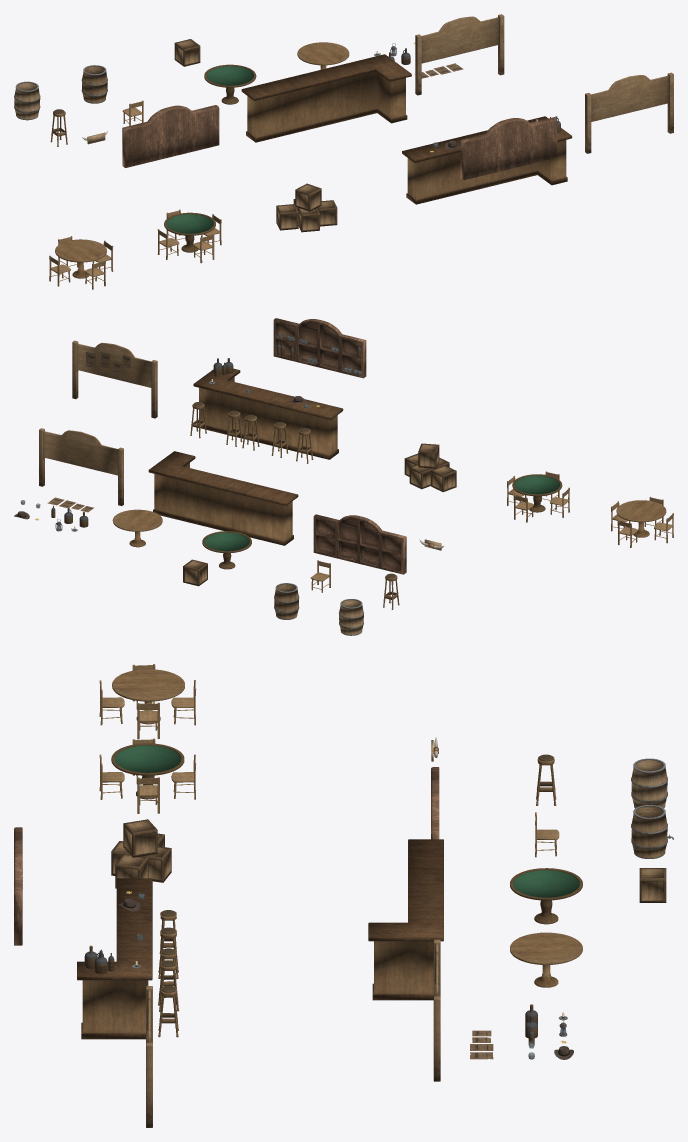
Rendered from wild_west_asset_pack.glb.
3 views of the same model, one above another, from view 1: azimuth 30°, elevation 25°; view 2: azimuth 150°, elevation 25°; view 3: azimuth 270°, elevation 25° (orthographic). The views are drawn at different scales.
Parts seen in each view (by area): view 1: Bar_low, Bar_low001, Shelf_low_ChairShelfHorns_0, Shelf_low001_ChairShelfHorns_0, WantedBoard_low, WantedBoard_low001, PokerTable_low, PokerTable_low001, StandardTable_low001, StandardTable_low, Barrel_low_CrateBarrelsKeg_0, Keg_low_CrateBarrelsKeg_0 (+5 smaller); view 2: Bar_low, Bar_low001, Shelf_low_ChairShelfHorns_0, Shelf_low001_ChairShelfHorns_0, WantedBoard_low, WantedBoard_low001, PokerTable_low, PokerTable_low001, StandardTable_low, StandardTable_low001, Barrel_low_CrateBarrelsKeg_0, Keg_low_CrateBarrelsKeg_0 (+3 smaller); view 3: Bar_low, Bar_low001, PokerTable_low, StandardTable_low, PokerTable_low001, StandardTable_low001, Keg_low_CrateBarrelsKeg_0, Barrel_low_CrateBarrelsKeg_0, Crate_low004_CrateBarrelsKeg_0, WantedBoard_low, Shelf_low001_ChairShelfHorns_0, WantedBoard_low001 (+3 smaller).
Part boxes in pixels (box(x1,y1,x2,y2)): Bar_low: box(241, 54, 411, 142); Bar_low001: box(402, 116, 572, 204); Shelf_low_ChairShelfHorns_0: box(122, 105, 219, 167); Shelf_low001_ChairShelfHorns_0: box(460, 117, 557, 180); WantedBoard_low: box(415, 14, 504, 95); WantedBoard_low001: box(585, 72, 673, 153); PokerTable_low: box(204, 64, 256, 104); PokerTable_low001: box(164, 212, 215, 252); StandardTable_low001: box(55, 239, 106, 278); StandardTable_low: box(297, 42, 349, 69); Barrel_low_CrateBarrelsKeg_0: box(14, 81, 40, 120); Keg_low_CrateBarrelsKeg_0: box(81, 65, 107, 103); Bar_low: box(148, 451, 298, 545); Bar_low001: box(193, 366, 343, 459); Shelf_low_ChairShelfHorns_0: box(313, 514, 406, 574); Shelf_low001_ChairShelfHorns_0: box(273, 318, 366, 378); WantedBoard_low: box(39, 428, 123, 505); WantedBoard_low001: box(72, 340, 157, 418); PokerTable_low: box(202, 531, 251, 569); PokerTable_low001: box(512, 474, 562, 512); StandardTable_low: box(112, 509, 162, 547); StandardTable_low001: box(616, 500, 666, 537); Barrel_low_CrateBarrelsKeg_0: box(339, 599, 363, 635); Keg_low_CrateBarrelsKeg_0: box(274, 583, 299, 619); Bar_low: box(368, 839, 443, 1000); Bar_low001: box(77, 878, 152, 1039); PokerTable_low: box(510, 868, 582, 924); StandardTable_low: box(510, 932, 582, 987); PokerTable_low001: box(111, 743, 184, 799); StandardTable_low001: box(112, 669, 184, 724); Keg_low_CrateBarrelsKeg_0: box(631, 805, 667, 858); Barrel_low_CrateBarrelsKeg_0: box(631, 758, 667, 808); Crate_low004_CrateBarrelsKeg_0: box(123, 819, 157, 857); WantedBoard_low: box(433, 939, 440, 1081); Shelf_low001_ChairShelfHorns_0: box(14, 827, 22, 945); WantedBoard_low001: box(146, 986, 152, 1127).
Size of the model in its own units: 783 by 117 by 511.
Materials: 7 (7 with a texture image).
